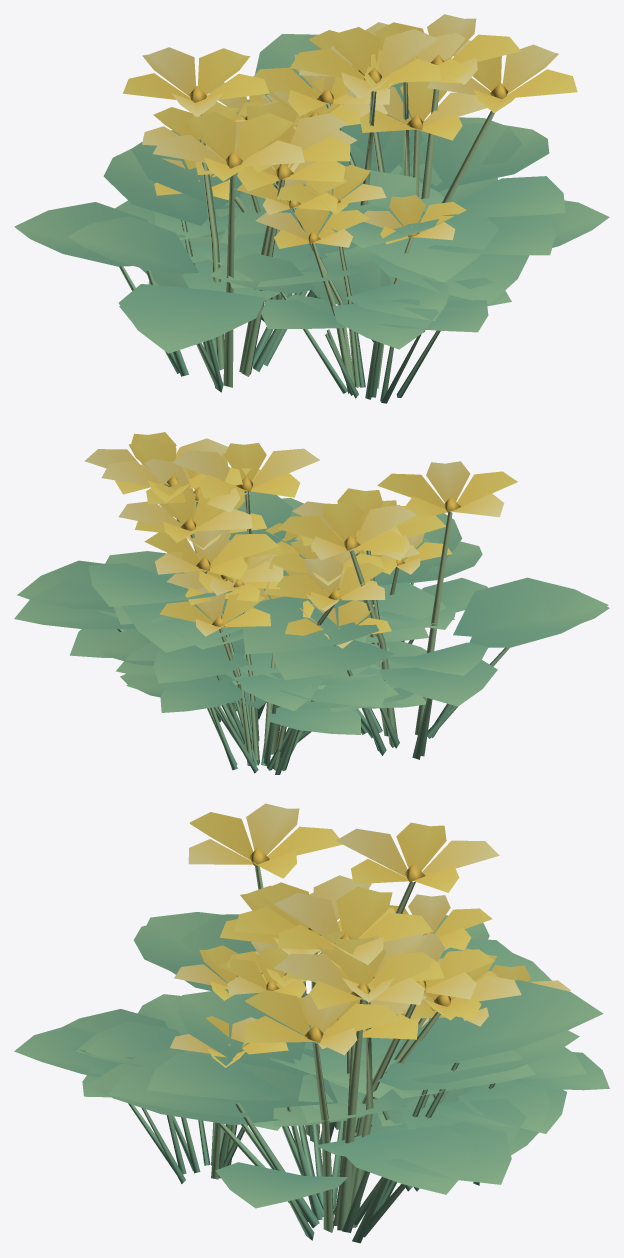
Rendered from kingcup_patch_a.glb.
3 views of the same model, one above another, from view 1: azimuth 30°, elevation 25°; view 2: azimuth 150°, elevation 25°; view 3: azimuth 270°, elevation 25° (orthographic). The views are drawn at different scales.
Parts seen in each view (by area): view 1: soft; view 2: soft; view 3: soft.
Boxes of the visible parts, x1,y1,x2,y2 form: soft: [14, 14, 609, 403]; soft: [14, 432, 609, 774]; soft: [14, 803, 609, 1243].
Size of the model in its own units: 0.6762 by 0.3453 by 0.6381.
